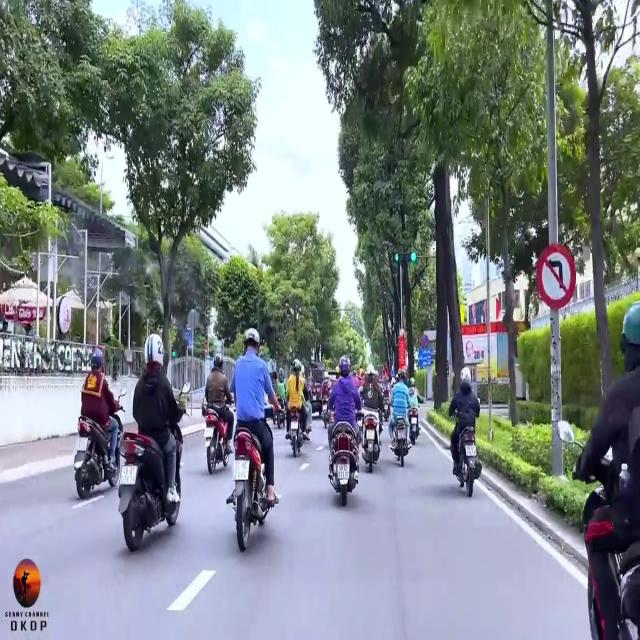bien_trang: (119, 464, 137, 486), (337, 461, 350, 481)
